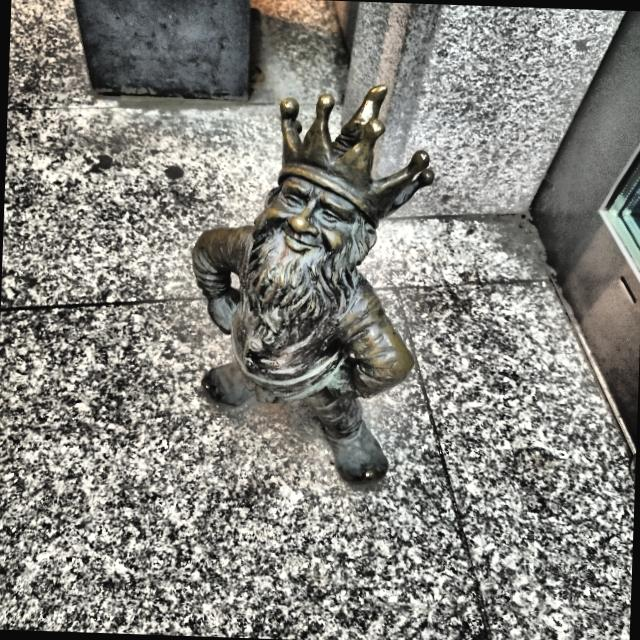Koronus: (190, 86, 435, 488)
